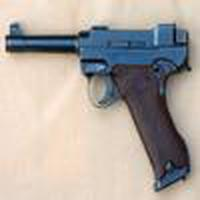gun: (6, 28, 186, 186)
